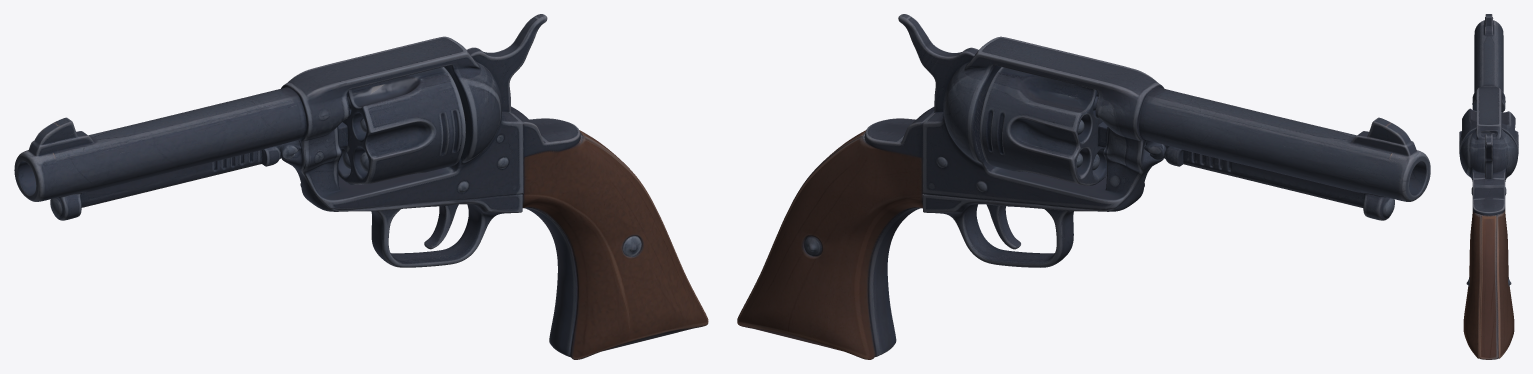
Rendered from revolver.glb.
3 renders of one model, left to right at view 1: azimuth 30°, elevation 25°; view 2: azimuth 150°, elevation 25°; view 3: azimuth 270°, elevation 25°, orthographic. The views are drawn at different scales.
Bounding box in the file's own units: 1.9 × 0.9531 × 0.2784.
1 material, 1 textured.
